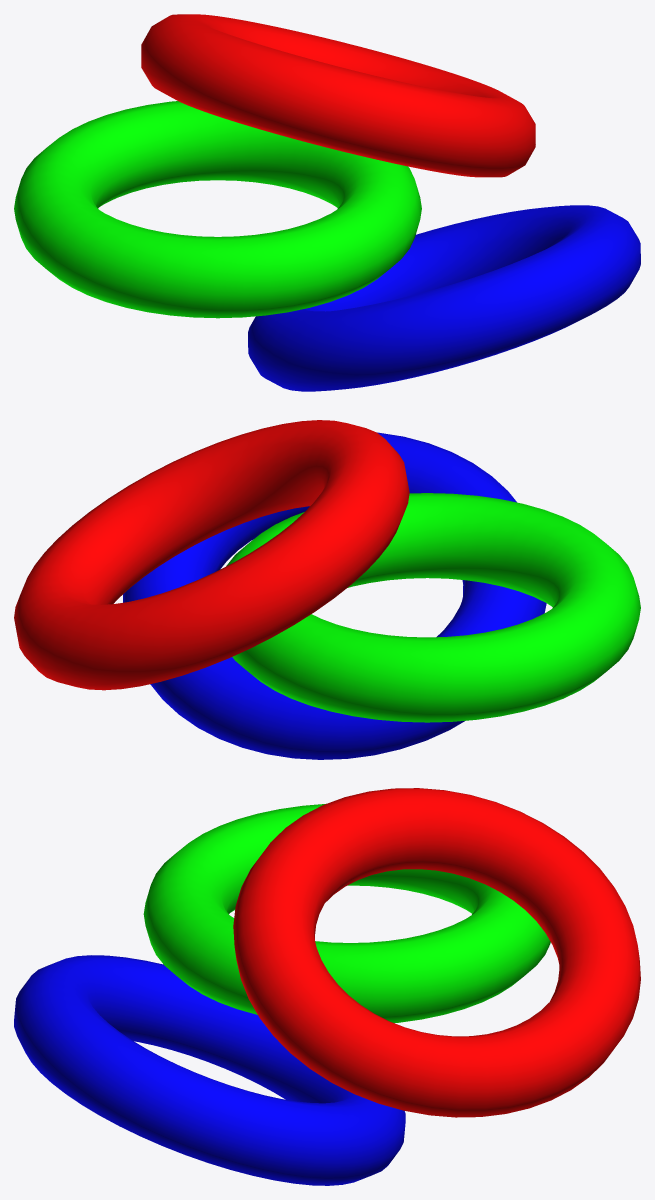
The model's file is rings1.glb.
3 renders of one model, top to bottom at view 1: azimuth 30°, elevation 25°; view 2: azimuth 150°, elevation 25°; view 3: azimuth 270°, elevation 25°, orthographic. The views are drawn at different scales.
Parts seen in each view (by area): view 1: Torus, Torus.002, Torus.001; view 2: Torus.001, Torus, Torus.002; view 3: Torus.001, Torus.002, Torus.
Boxes of the visible parts, bbox=[...] form: Torus: bbox=[14, 101, 421, 318]; Torus.002: bbox=[248, 205, 640, 391]; Torus.001: bbox=[141, 14, 535, 177]; Torus.001: bbox=[14, 420, 409, 690]; Torus: bbox=[226, 493, 640, 722]; Torus.002: bbox=[123, 432, 546, 759]; Torus.001: bbox=[233, 788, 640, 1117]; Torus.002: bbox=[14, 955, 405, 1185]; Torus: bbox=[143, 803, 550, 1022].
Size of the model in its own units: 3.6 by 2.08 by 3.79.
